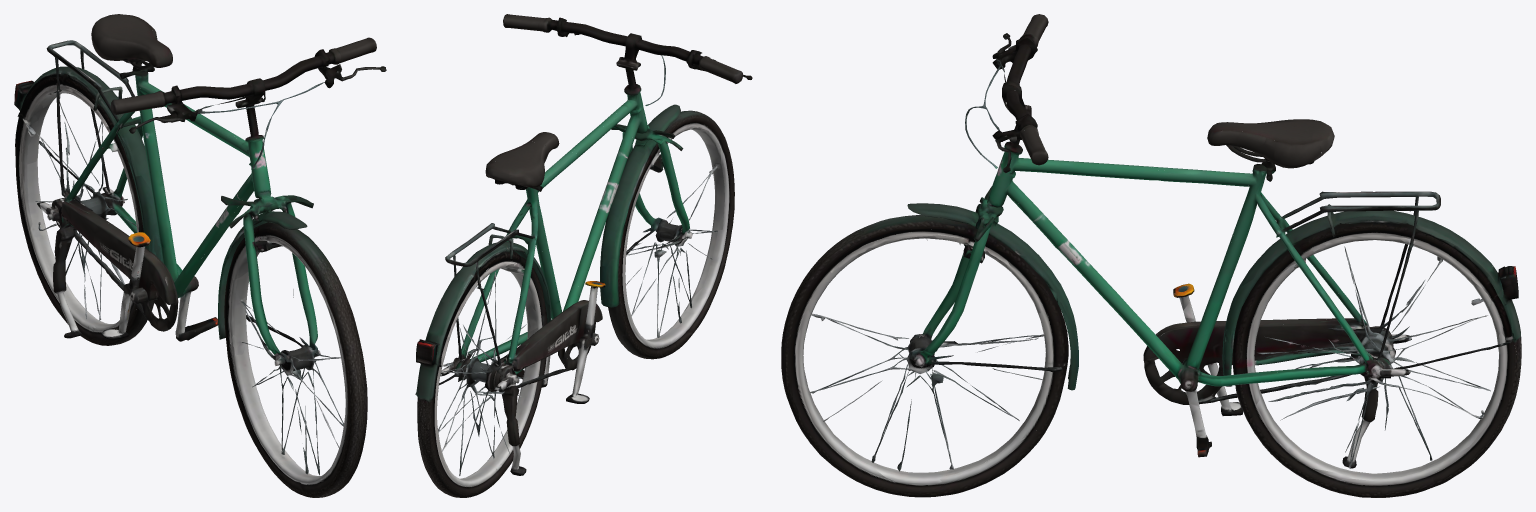
The model's file is bisiklet.glb.
3 renders of one model, left to right at view 1: azimuth 30°, elevation 25°; view 2: azimuth 150°, elevation 25°; view 3: azimuth 270°, elevation 25°, orthographic. The views are drawn at different scales.
Parts seen in each view (by area): view 1: tripo_node_e7bbeb82-527e-43b8-9ae0-4bd43fc53a24, wheel_x_1, wheel_x_0; view 2: tripo_node_e7bbeb82-527e-43b8-9ae0-4bd43fc53a24, wheel_x_1, wheel_x_0; view 3: tripo_node_e7bbeb82-527e-43b8-9ae0-4bd43fc53a24, wheel_x_1, wheel_x_0.
Boxes of the visible parts, x1,y1,x2,y2 form: tripo_node_e7bbeb82-527e-43b8-9ae0-4bd43fc53a24: (14,14,386,484); wheel_x_1: (15,74,163,345); wheel_x_0: (218,235,365,497); tripo_node_e7bbeb82-527e-43b8-9ae0-4bd43fc53a24: (416,14,752,475); wheel_x_1: (415,251,551,497); wheel_x_0: (600,127,734,359); tripo_node_e7bbeb82-527e-43b8-9ae0-4bd43fc53a24: (781,14,1518,468); wheel_x_1: (1222,222,1521,497); wheel_x_0: (786,235,1078,497).
Bounding box in the file's own units: 0.4437 × 0.6261 × 0.9988.
Materials: 1 (1 with a texture image).
